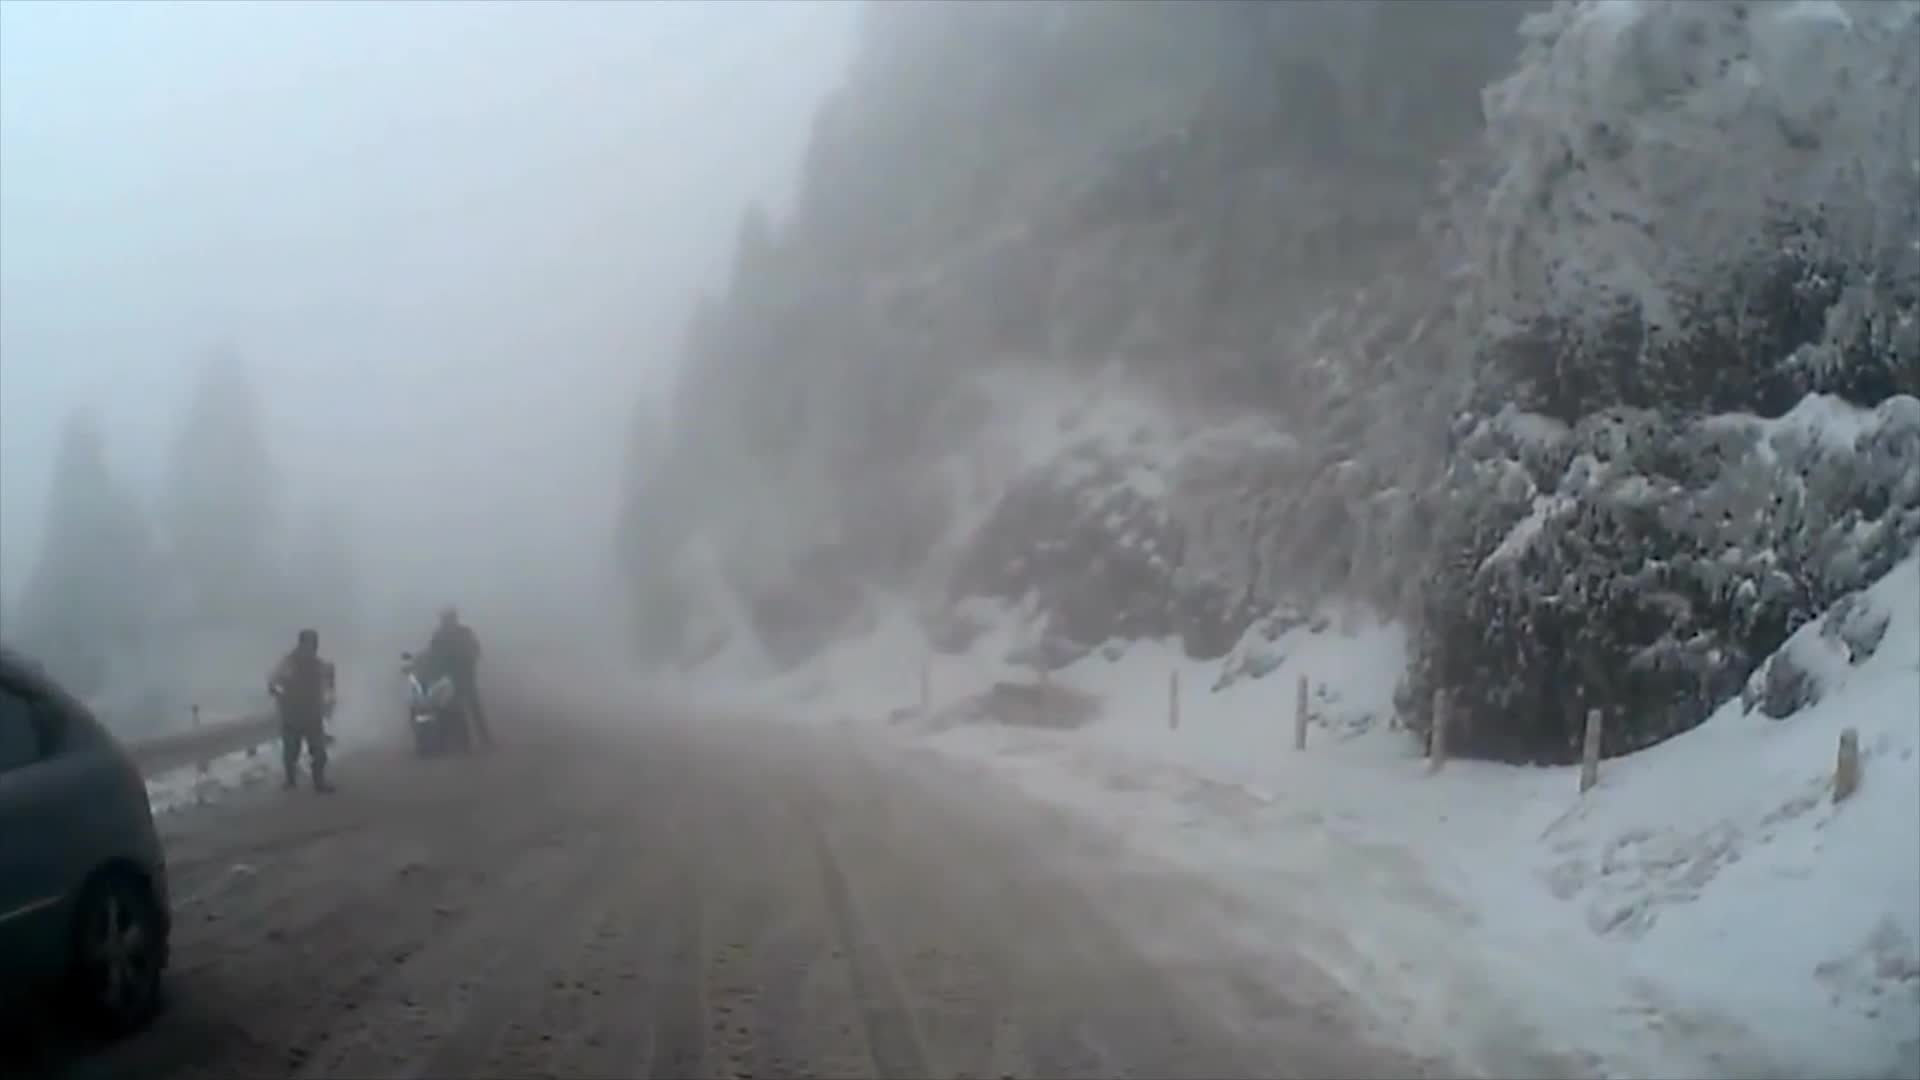pedestrian: (270, 631, 344, 796), (419, 602, 498, 753)
vehicle: (0, 655, 176, 1080)
